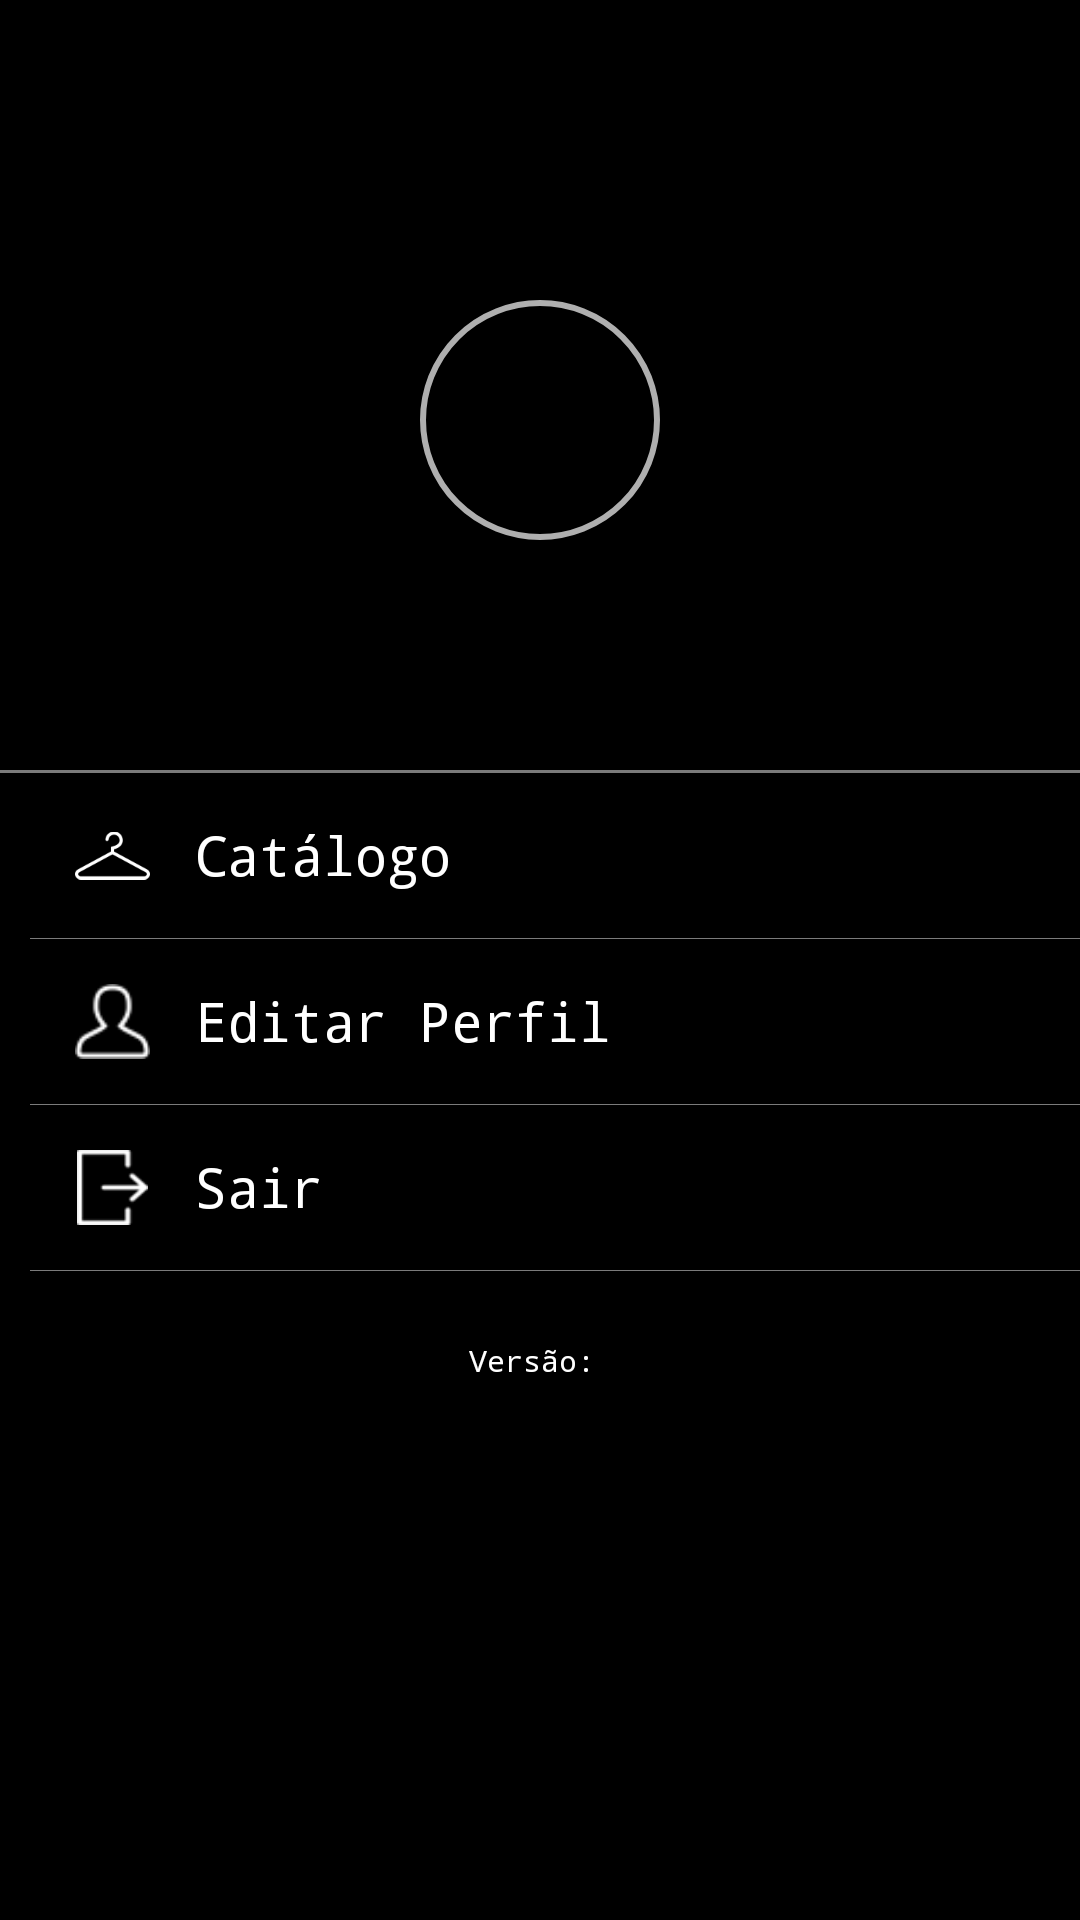

Locate icon controls on the screen. Image size 1080×1920, boxes as (x1, y1, x2, y2).
cabide: (75, 832, 150, 880)
user: (75, 984, 150, 1059)
